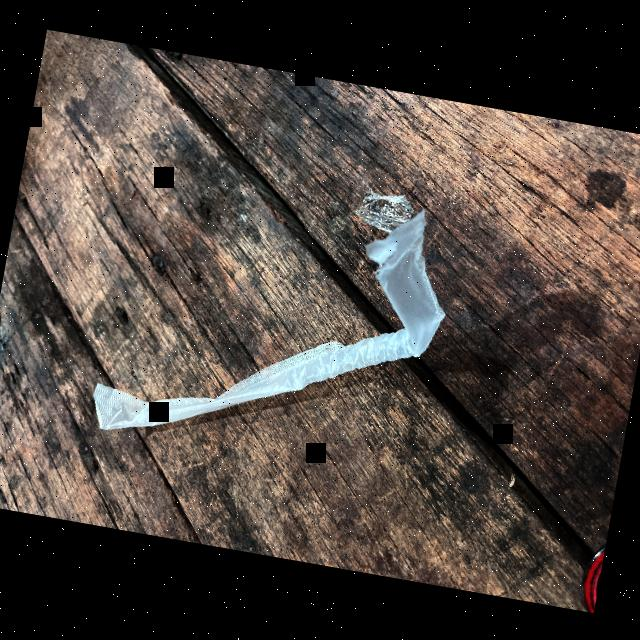scrap_plastic: (80, 179, 457, 483), (354, 186, 408, 238)
